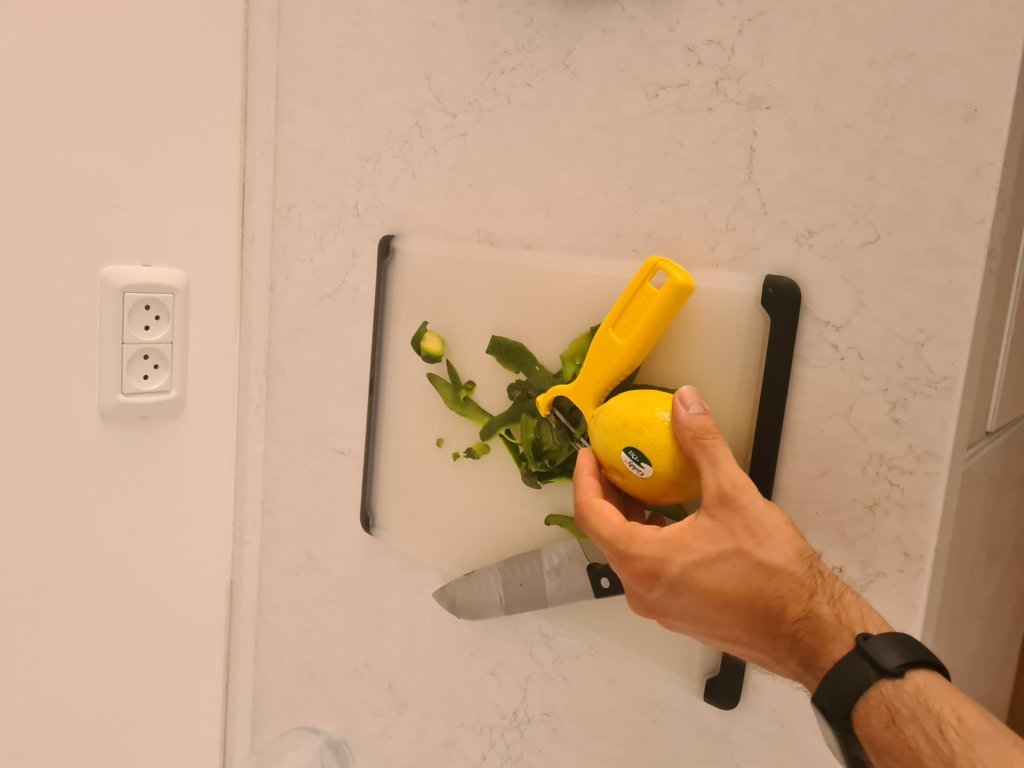lemon: (594, 385, 710, 509)
